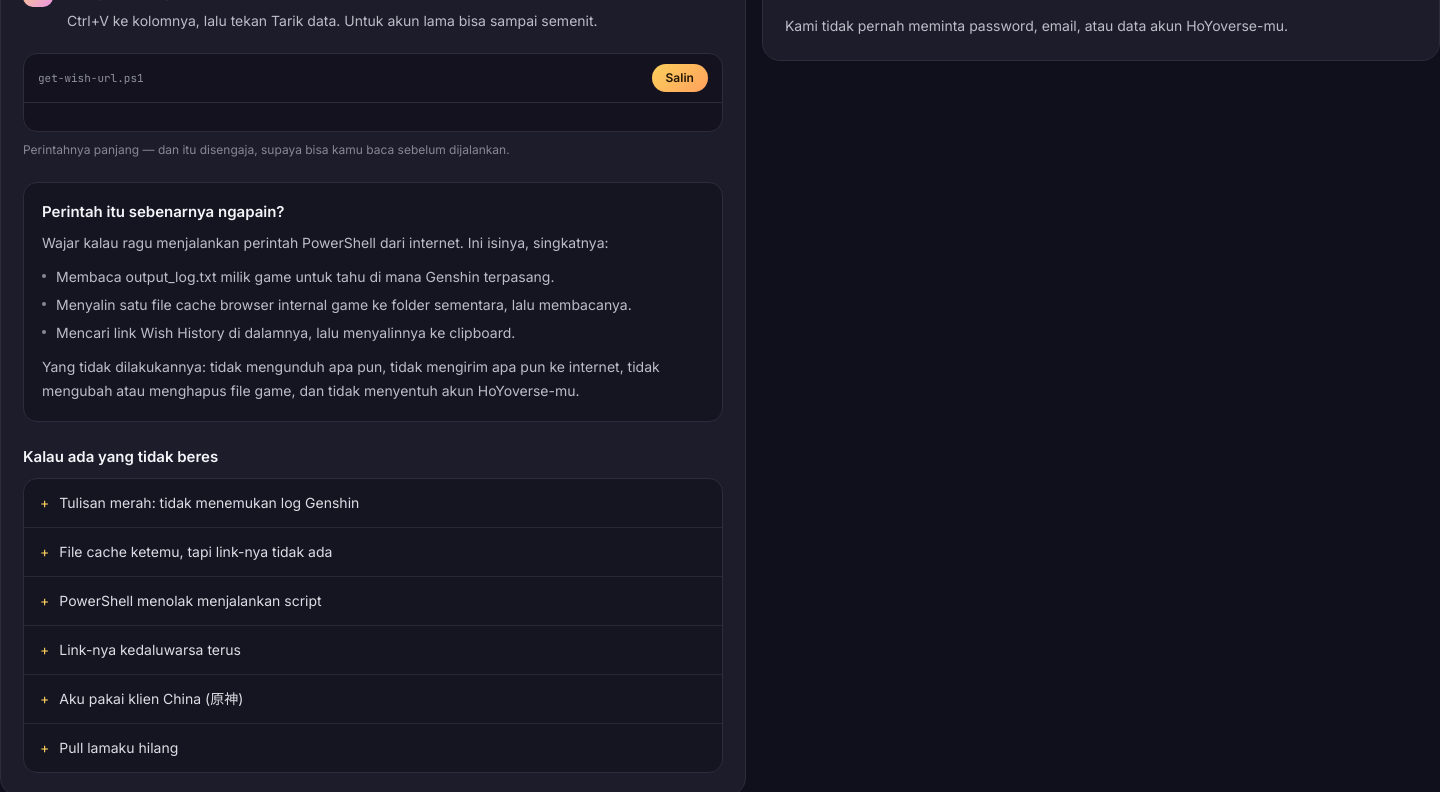
Test case: panduan Windows › punya bagian troubleshooting untuk error umum
(page scrolled)
Expected: the heading "Tulisan merah: tidak menemukan log Genshin" is shown, x1=40 y1=494 x2=359 y2=511
Click the heading "+ Link-nya kedaluwarsa terus".
click(140, 650)  # box x1=40 y1=641 x2=241 y2=658
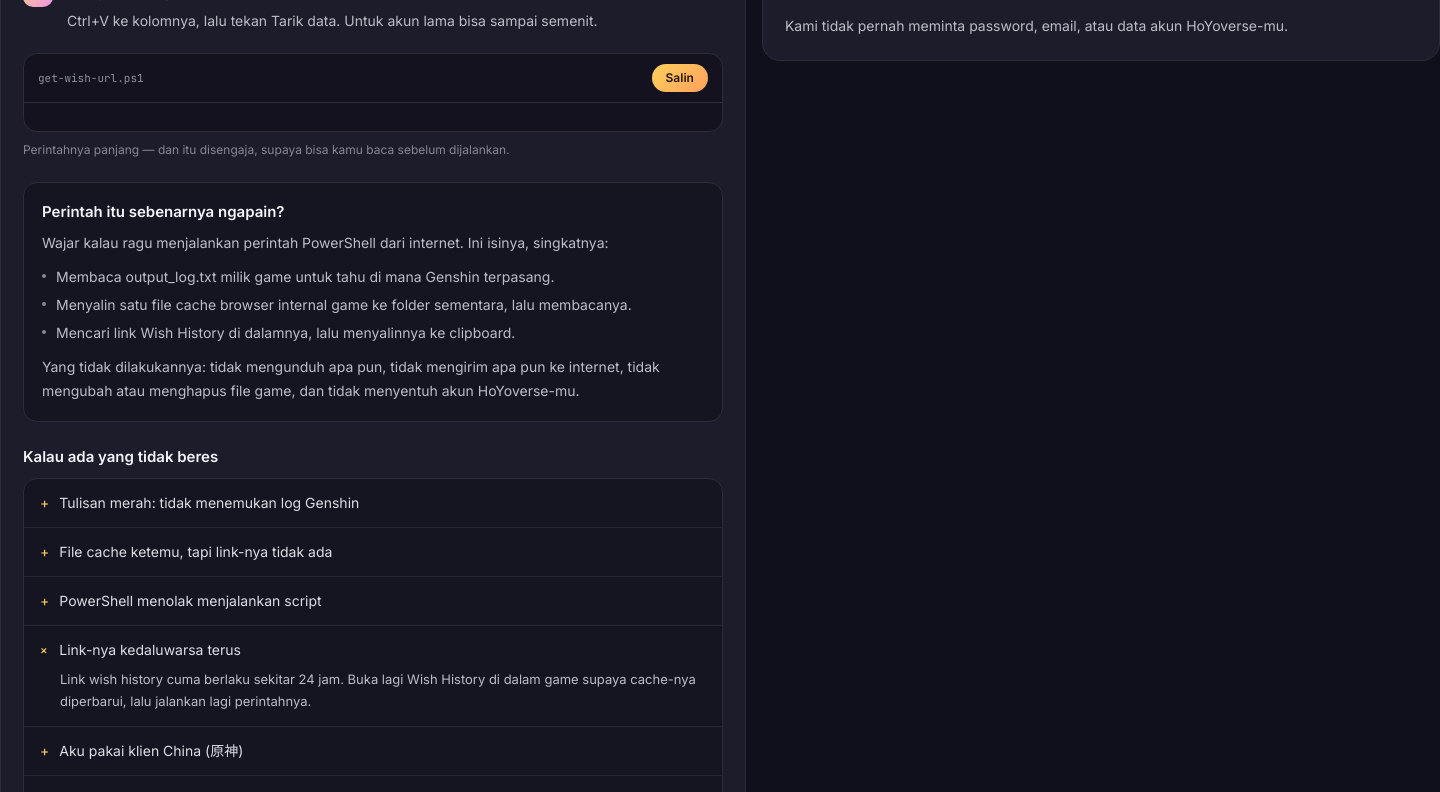
Result: the text "Link wish history cuma berlaku sekitar 24 jam. Buka lagi Wish History di dalam game supaya cache-nya diperbarui, lalu ja" is shown at x1=60 y1=671 x2=696 y2=709
